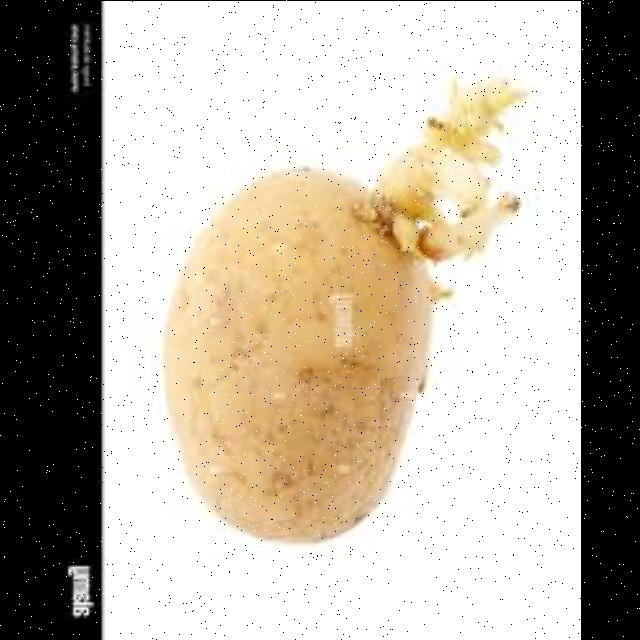Sprouted potato: (158, 58, 538, 548)
